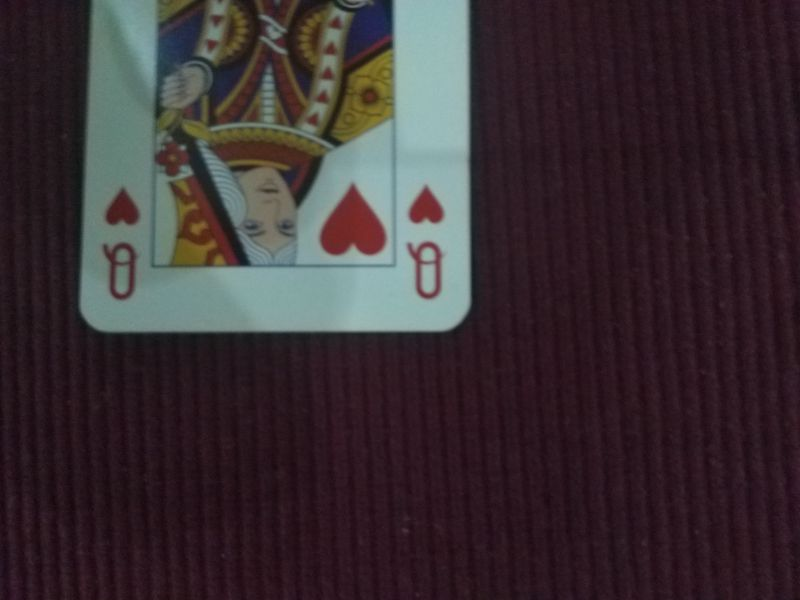Qh: (96, 182, 146, 305), (402, 182, 450, 304)
